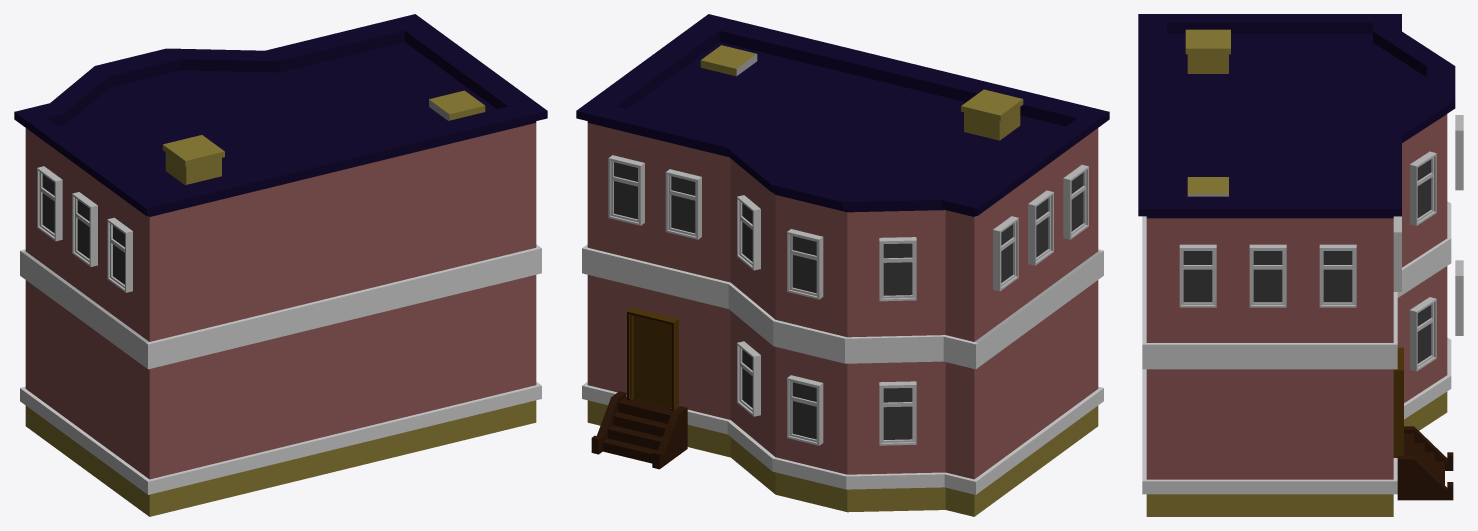
Rendered from Building_3 (1).fbx.
3 views of the same model, side by side, from view 1: azimuth 30°, elevation 25°; view 2: azimuth 150°, elevation 25°; view 3: azimuth 270°, elevation 25° (orthographic).
Parts seen in each view (by area): view 1: Building_3; view 2: Building_3; view 3: Building_3.
Part boxes in pixels (box(x1,y1,x2,y2)): Building_3: box(14, 14, 547, 516); Building_3: box(576, 14, 1109, 516); Building_3: box(1138, 14, 1463, 516).
Size of the model in its own units: 1120 by 875 by 790.
